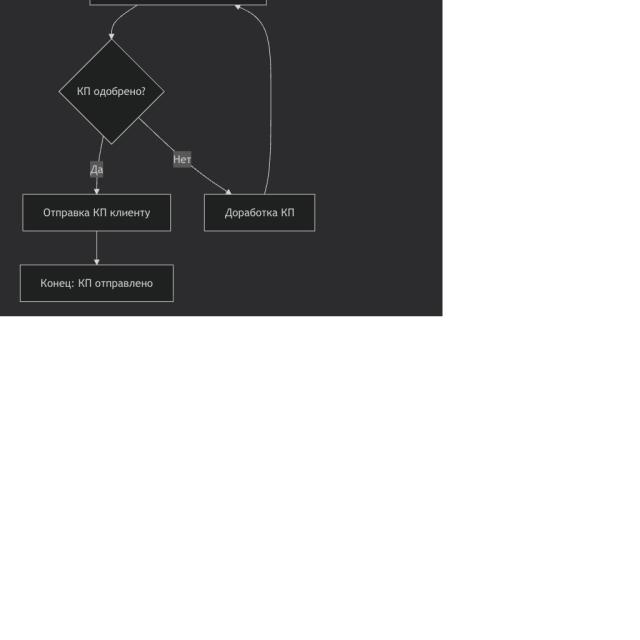arrow: (138, 118, 231, 195), (93, 137, 104, 194), (94, 231, 100, 265)
diamond: (58, 39, 164, 145)
rectangle: (20, 265, 173, 302), (23, 194, 171, 231), (205, 194, 315, 231)
